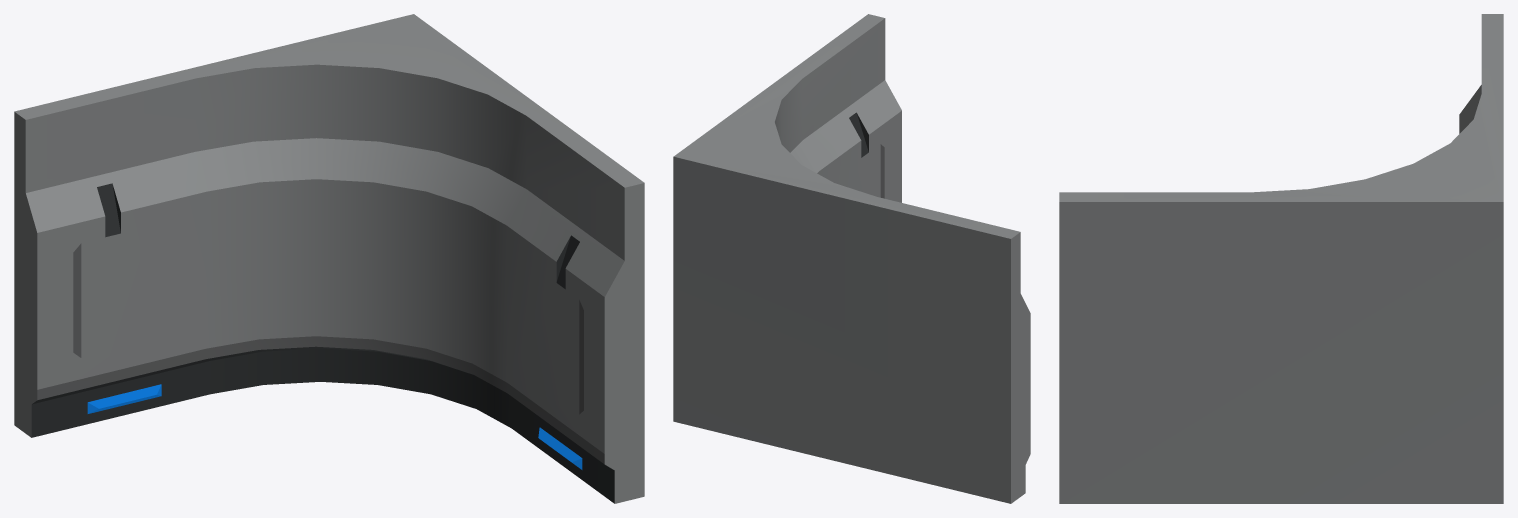
File: Wall_type_B_045.glb
3 views of the same model, side by side, from view 1: azimuth 30°, elevation 25°; view 2: azimuth 150°, elevation 25°; view 3: azimuth 270°, elevation 25° (orthographic). The views are drawn at different scales.
Visible parts, largest first — view 1: Wall_type_B_045; view 2: Wall_type_B_045; view 3: Wall_type_B_045.
Part boxes in pixels (x1,y1,x2,y2): Wall_type_B_045: [14, 14, 644, 503]; Wall_type_B_045: [673, 14, 1030, 503]; Wall_type_B_045: [1059, 14, 1503, 503].
Bounding box in the file's own units: 2 × 1.5 × 2.
2 materials, 2 textured.
